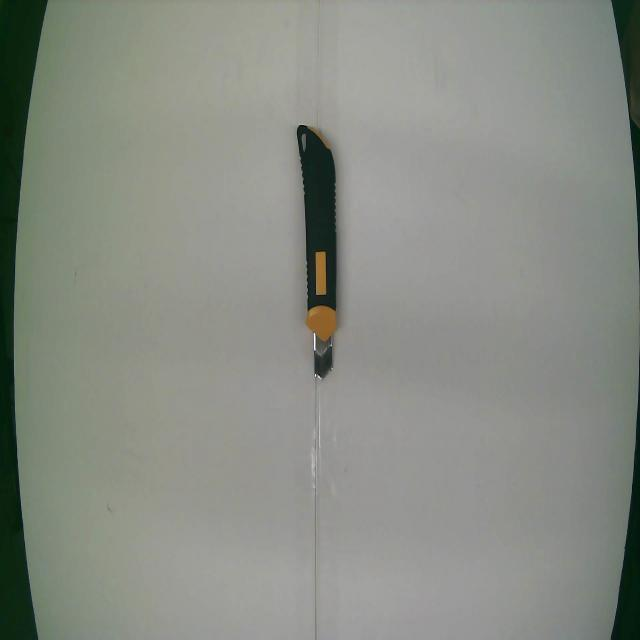estilete: (298, 125, 336, 379)
